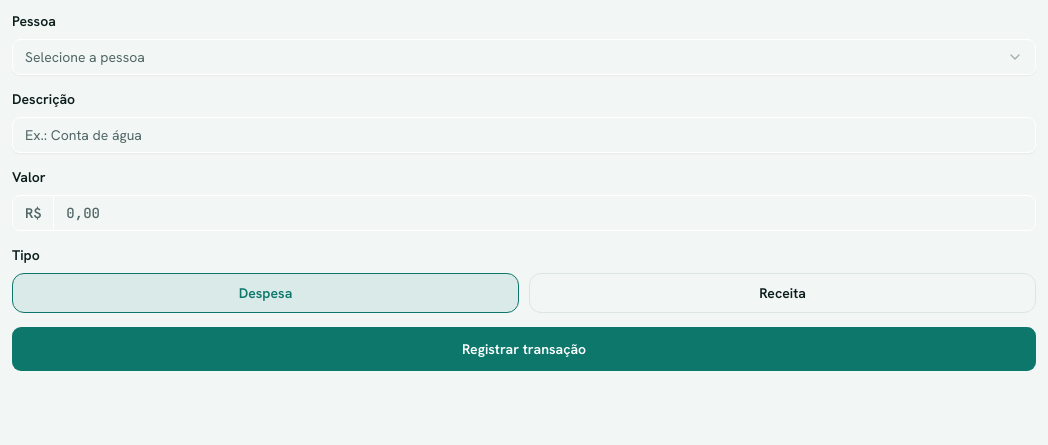
Test: TransacaoForm › mostra aviso e desabilita Receita quando a pessoa é menor de idade
Click the dropdown: (85, 57) [12,39,1036,75]
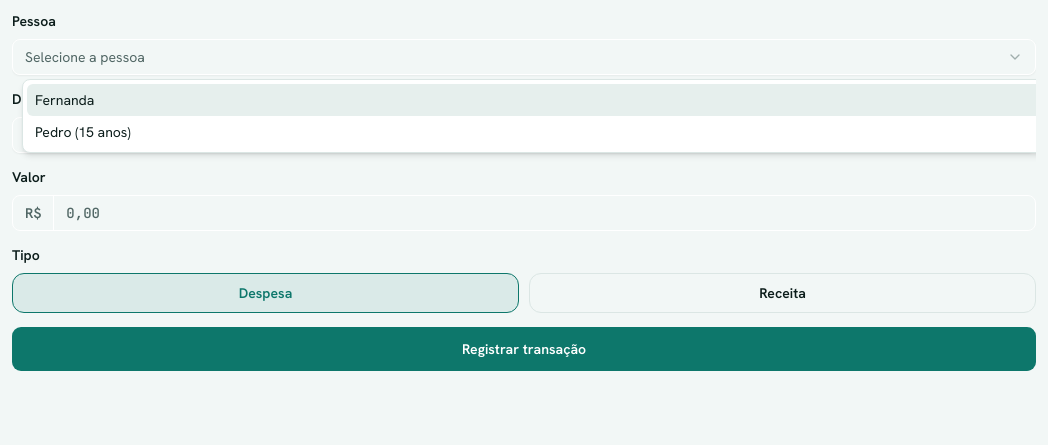
Click the option "Pedro (15 anos)": (83, 132) [35,123,131,141]
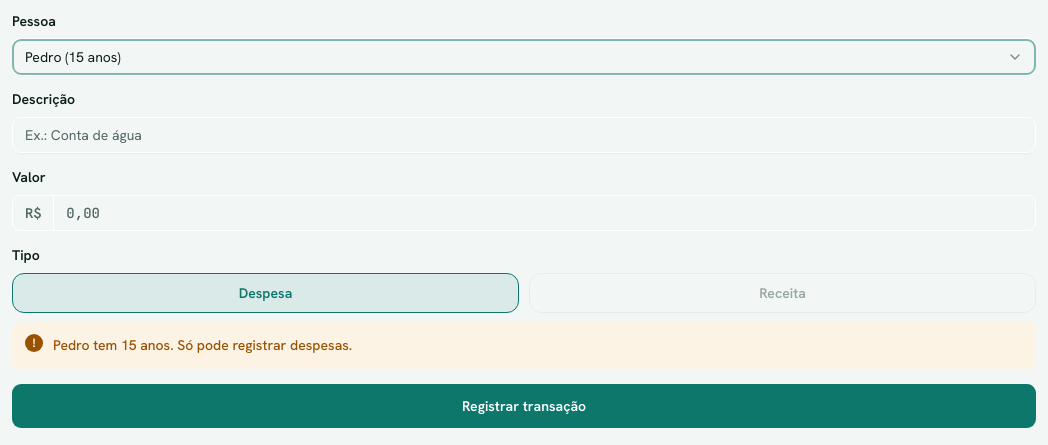
Result: the text "Pedro tem 15 anos. Só pode registrar despesas." is shown at [53,334,352,357]
Result: the button "Receita" is disabled at [529,273,1036,313]
